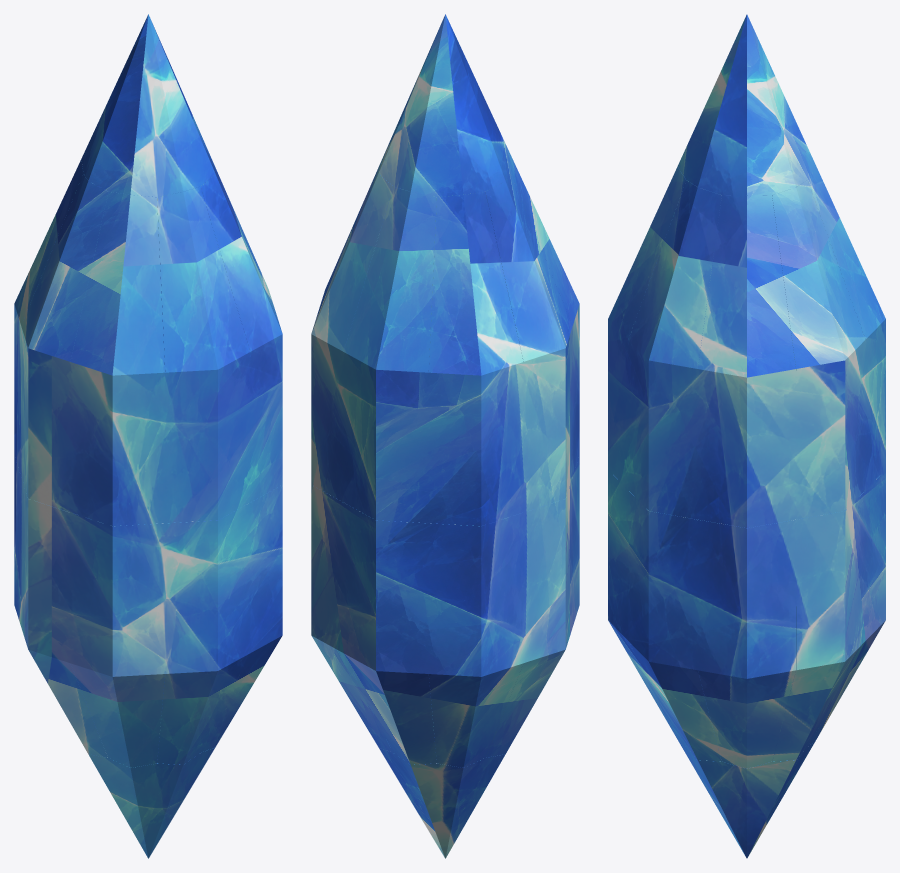
File: CRYSTAL.fbx
The picture shows the model from 3 angles, left to right: view 1: azimuth 30°, elevation 25°; view 2: azimuth 150°, elevation 25°; view 3: azimuth 270°, elevation 25°; orthographic projection.
Visible parts, largest first — view 1: Cylinder.097_cell.011, Cylinder.097_cell.009, Cylinder.097_cell.010, Cylinder.097_cell.008, Cylinder.097_cell.013, Cylinder.097_cell.016, Cylinder.097_cell.012, Cylinder.097_cell.007, Cylinder.097_cell.006, Cylinder.097_cell.017, Cylinder.097_cell.015, Cylinder.097_cell.014; view 2: Cylinder.097_cell.015, Cylinder.097_cell.001, Cylinder.097_cell.014, Cylinder.097_cell, Cylinder.097_cell.013, Cylinder.097_cell.016, Cylinder.097_cell.012, Cylinder.097_cell.003, Cylinder.097_cell.002, Cylinder.097_cell.017, Cylinder.097_cell.011, Cylinder.097_cell.010; view 3: Cylinder.097_cell.005, Cylinder.097_cell.004, Cylinder.097_cell.007, Cylinder.097_cell.003, Cylinder.097_cell.002, Cylinder.097_cell.006, Cylinder.097_cell.016, Cylinder.097_cell.009, Cylinder.097_cell.001, Cylinder.097_cell.017, Cylinder.097_cell, Cylinder.097_cell.008.
Part boxes in pixels (<box>): Cylinder.097_cell.011: <box>70,192,165,526</box>; Cylinder.097_cell.009: <box>157,186,250,523</box>; Cylinder.097_cell.010: <box>70,512,165,767</box>; Cylinder.097_cell.008: <box>157,503,250,764</box>; Cylinder.097_cell.013: <box>21,173,108,512</box>; Cylinder.097_cell.016: <box>81,14,215,196</box>; Cylinder.097_cell.012: <box>21,477,107,757</box>; Cylinder.097_cell.007: <box>200,168,282,502</box>; Cylinder.097_cell.006: <box>201,485,282,752</box>; Cylinder.097_cell.017: <box>88,747,215,858</box>; Cylinder.097_cell.015: <box>14,159,83,475</box>; Cylinder.097_cell.014: <box>14,455,21,626</box>; Cylinder.097_cell.015: <box>428,192,523,526</box>; Cylinder.097_cell.001: <box>343,186,436,523</box>; Cylinder.097_cell.014: <box>428,512,523,767</box>; Cylinder.097_cell: <box>343,503,436,764</box>; Cylinder.097_cell.013: <box>485,173,572,512</box>; Cylinder.097_cell.016: <box>378,14,512,197</box>; Cylinder.097_cell.012: <box>486,477,572,757</box>; Cylinder.097_cell.003: <box>311,168,393,502</box>; Cylinder.097_cell.002: <box>311,485,392,752</box>; Cylinder.097_cell.017: <box>378,747,505,858</box>; Cylinder.097_cell.011: <box>510,159,579,475</box>; Cylinder.097_cell.010: <box>572,455,579,626</box>; Cylinder.097_cell.005: <box>698,195,795,527</box>; Cylinder.097_cell.004: <box>698,519,795,768</box>; Cylinder.097_cell.007: <box>628,180,721,519</box>; Cylinder.097_cell.003: <box>772,180,865,519</box>; Cylinder.097_cell.002: <box>772,490,865,761</box>; Cylinder.097_cell.006: <box>628,490,721,761</box>; Cylinder.097_cell.016: <box>677,14,816,195</box>; Cylinder.097_cell.009: <box>608,167,686,489</box>; Cylinder.097_cell.001: <box>807,167,885,489</box>; Cylinder.097_cell.017: <box>678,740,815,858</box>; Cylinder.097_cell: <box>808,470,885,745</box>; Cylinder.097_cell.008: <box>608,470,685,745</box>.
Size of the model in its own units: 565 by 1896 by 565.
